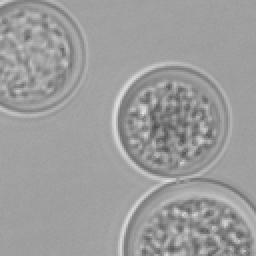picoshell: (110, 60, 230, 182), (118, 178, 254, 254)
